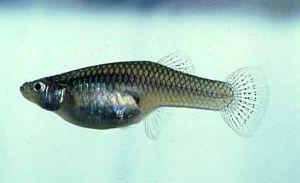Mosquito Fish: (18, 51, 270, 140)
